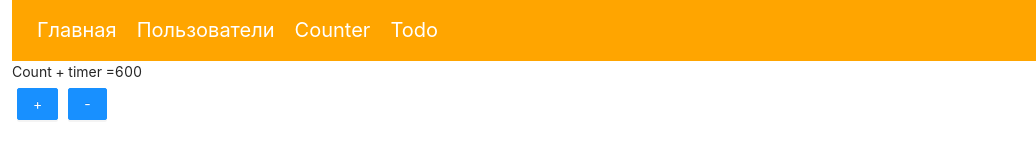
Test: counter test › should increment
Click the button "+".
click(38, 104)  # box [17,88,58,120]
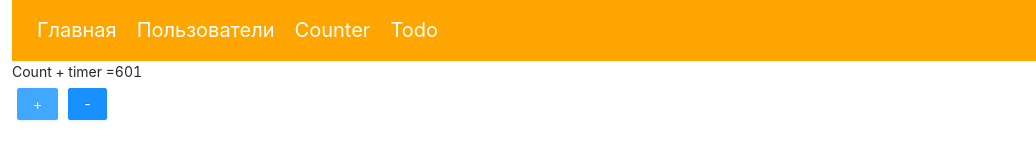
Expected: the text "Count + timer =601" is shown, [12,63,142,80]
